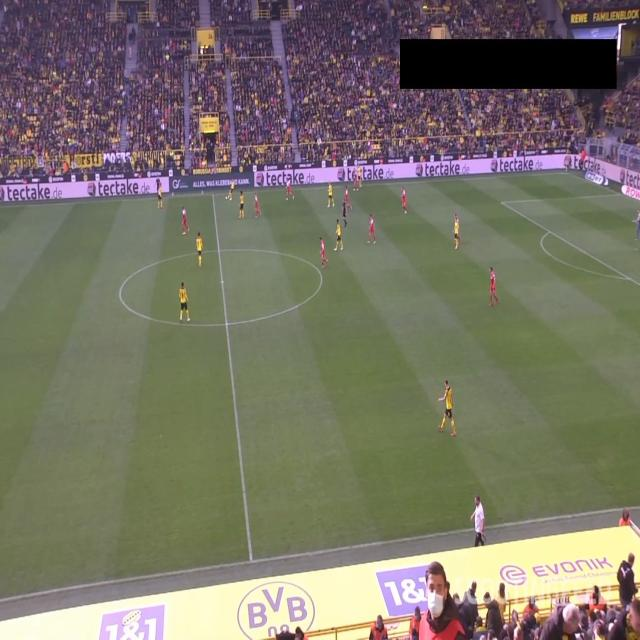ball: (225, 195, 228, 200)
